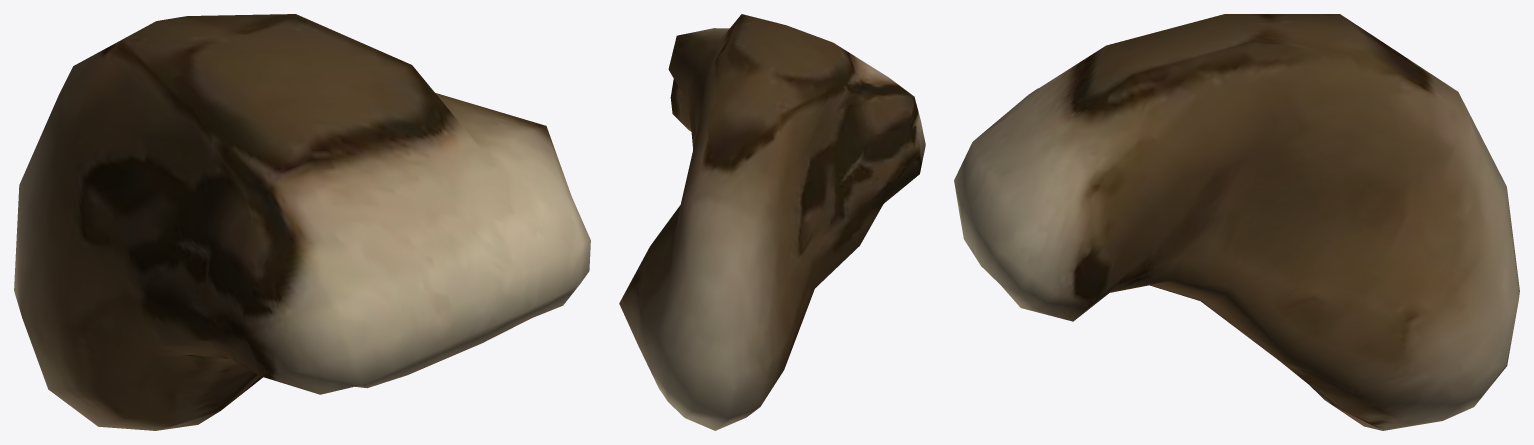
Rendered from Distal_Carpal_III.glb.
3 views of the same model, side by side, from view 1: azimuth 30°, elevation 25°; view 2: azimuth 150°, elevation 25°; view 3: azimuth 270°, elevation 25° (orthographic). The views are drawn at different scales.
Parts seen in each view (by area): view 1: Distal_Carpal_III_Left1:Group8594; view 2: Distal_Carpal_III_Left1:Group8594; view 3: Distal_Carpal_III_Left1:Group8594.
Part boxes in pixels (x1=…): Distal_Carpal_III_Left1:Group8594: x1=14, y1=14, x2=590, y2=430; Distal_Carpal_III_Left1:Group8594: x1=619, y1=14, x2=925, y2=430; Distal_Carpal_III_Left1:Group8594: x1=954, y1=14, x2=1519, y2=430.
Bounding box in the file's own units: 8.79 × 11.07 × 13.91.
1 material, 1 textured.
